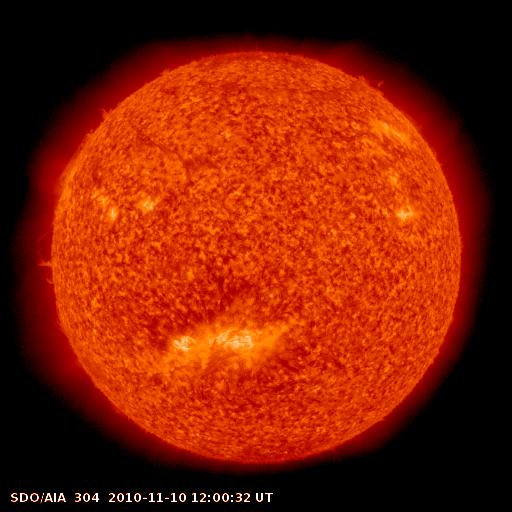prominence: (55, 100, 123, 187), (27, 214, 70, 297), (348, 62, 389, 97)
